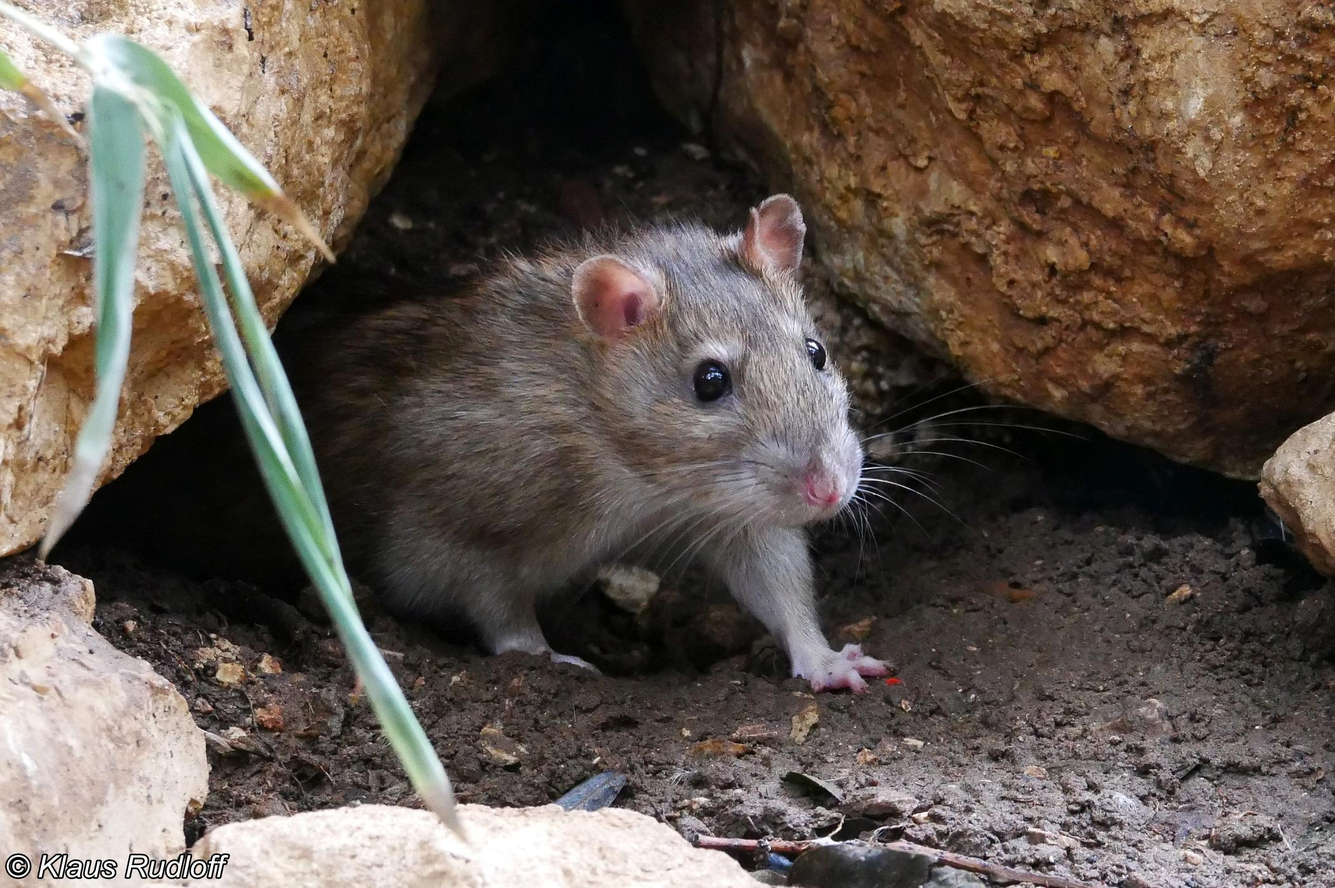rat: (325, 194, 889, 698)
